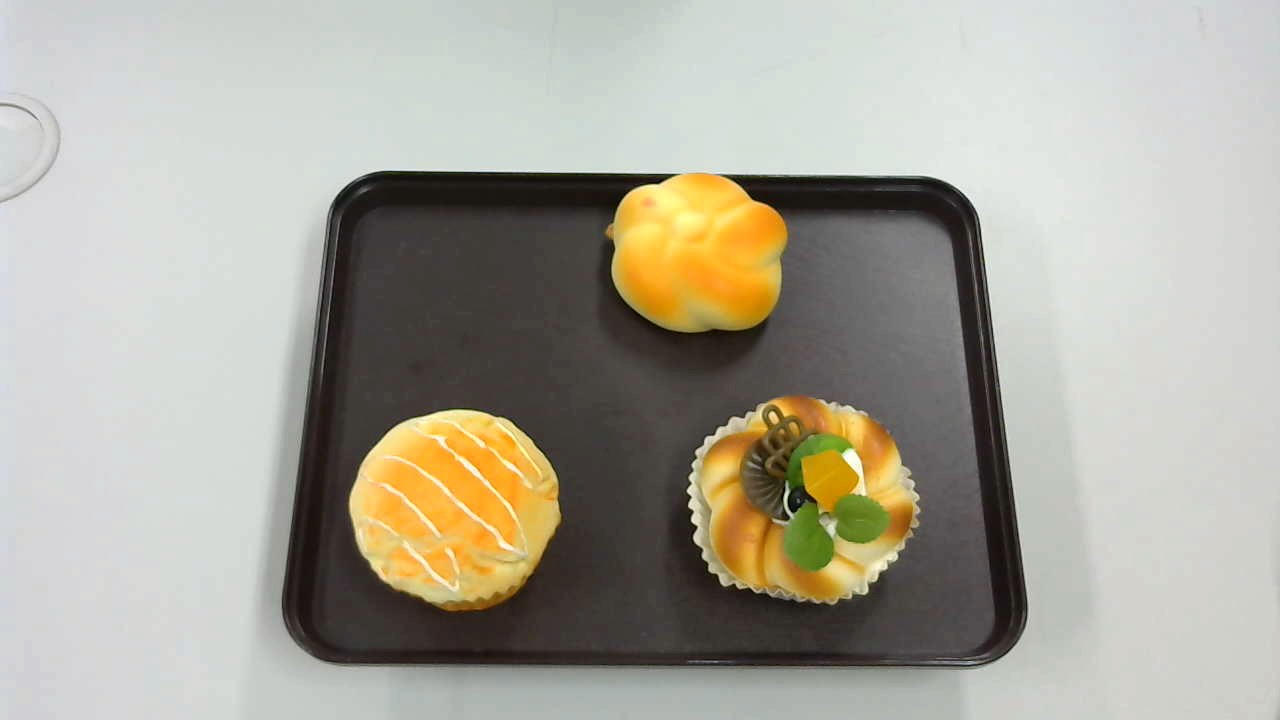croissant: (604, 172, 785, 332)
cupcake: (350, 408, 562, 615)
fruit tart: (687, 394, 921, 609)
